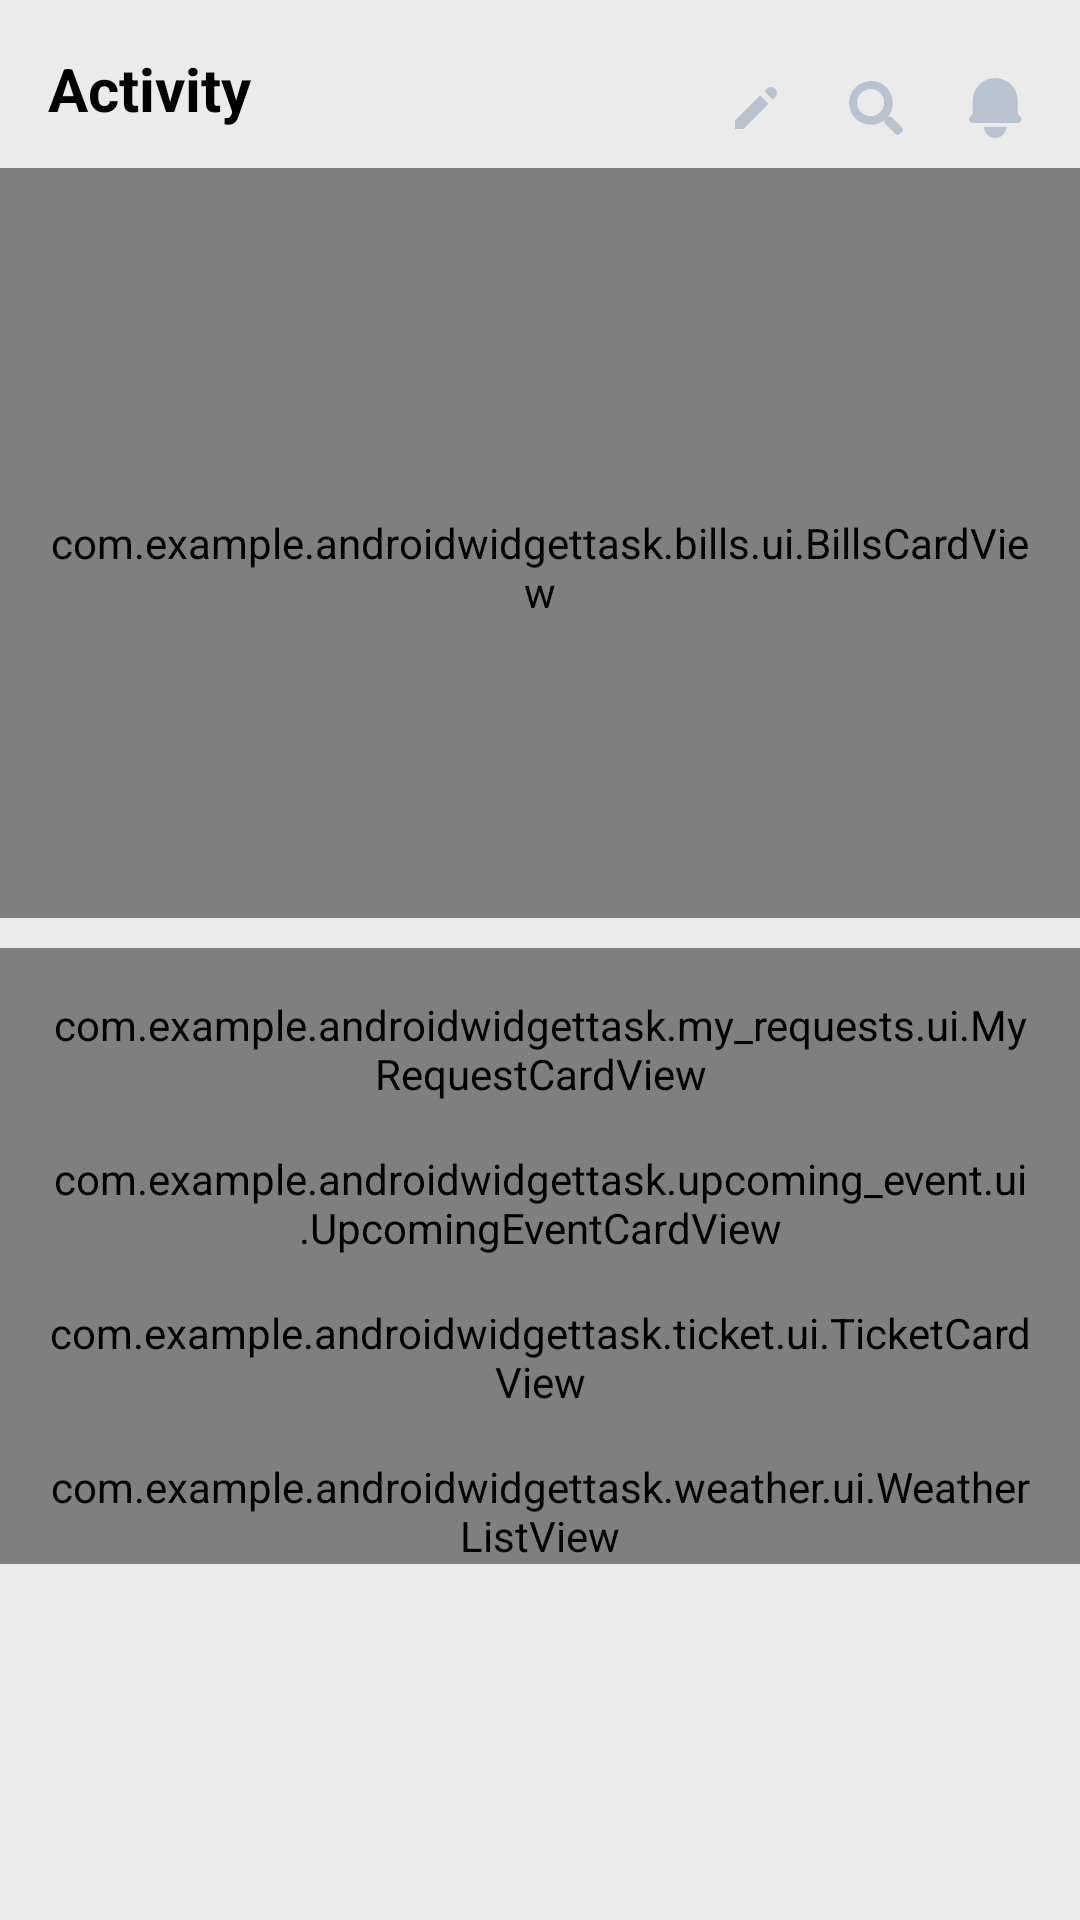

Icons on this 1080w x 1920h Android screen, each with its box as (x1, y1, x2, y2):
edit: (735, 87, 777, 129)
elements searchbar: (849, 81, 903, 135)
